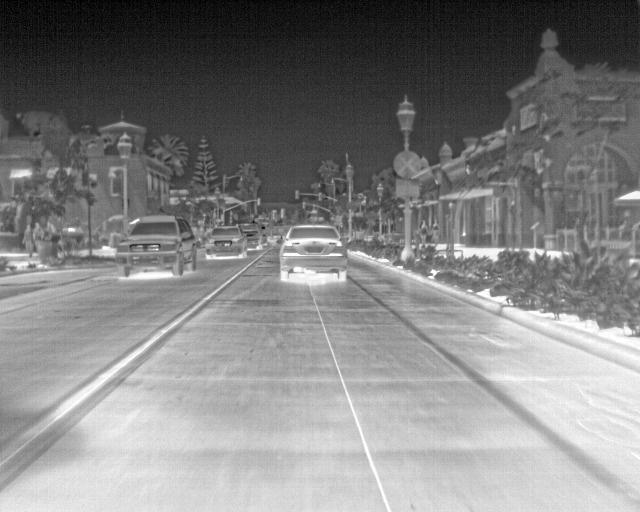bicycle: (116, 212, 199, 275), (276, 222, 348, 282), (205, 223, 247, 257), (242, 227, 258, 250)
empty: (30, 220, 45, 252), (21, 224, 34, 259)
